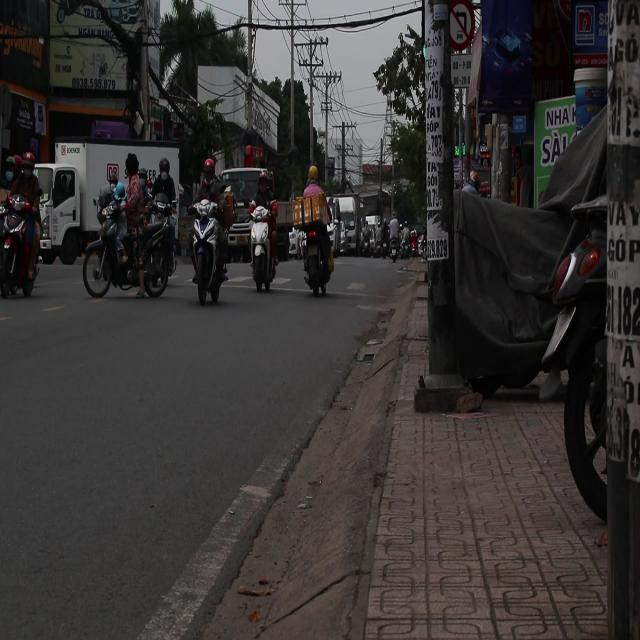motorbike: (82, 184, 175, 300), (0, 163, 43, 299), (187, 192, 230, 305), (296, 197, 336, 296), (247, 204, 280, 292)
truck: (46, 130, 182, 259), (328, 194, 362, 255)
